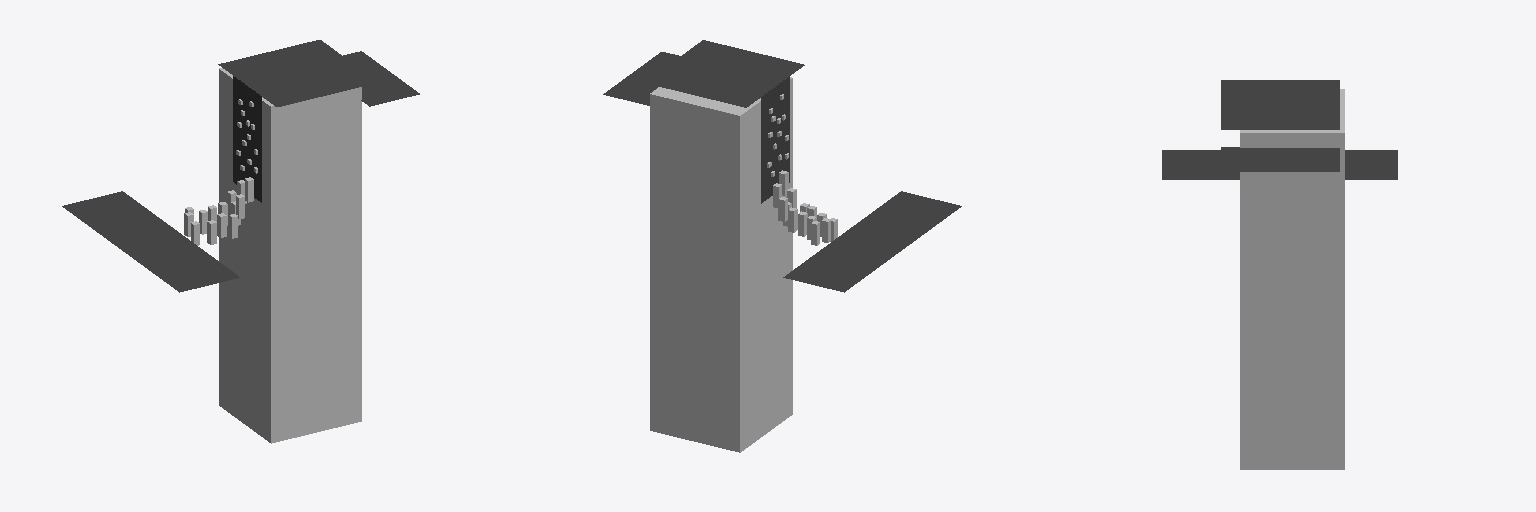
File: race_1.obj
The picture shows the model from 3 angles: view 1: azimuth 30°, elevation 25°; view 2: azimuth 150°, elevation 25°; view 3: azimuth 270°, elevation 25°; orthographic projection.
Parts seen in each view (by area): view 1: Cube.034_Cube, Plane, Plane.002, Plane.001, Plane.004; view 2: Cube.034_Cube, Plane, Plane.002, Plane.001, Plane.004; view 3: Cube.034_Cube, Plane.002, Plane, Plane.004.
Part boxes in pixels (left/top/right/bottom): Cube.034_Cube: left=219, top=68, right=361, bottom=443; Plane: left=62, top=191, right=240, bottom=292; Plane.002: left=218, top=40, right=378, bottom=106; Plane.001: left=233, top=76, right=261, bottom=202; Plane.004: left=343, top=51, right=419, bottom=106; Cube.034_Cube: left=650, top=77, right=792, bottom=452; Plane: left=783, top=191, right=961, bottom=292; Plane.002: left=645, top=40, right=804, bottom=107; Plane.001: left=761, top=77, right=789, bottom=203; Plane.004: left=603, top=52, right=679, bottom=105; Cube.034_Cube: left=1240, top=89, right=1344, bottom=469; Plane.002: left=1221, top=80, right=1339, bottom=129; Plane: left=1162, top=150, right=1397, bottom=179; Plane.004: left=1221, top=147, right=1339, bottom=171.
Bounding box in the file's own units: 13.23 × 16.05 × 10.